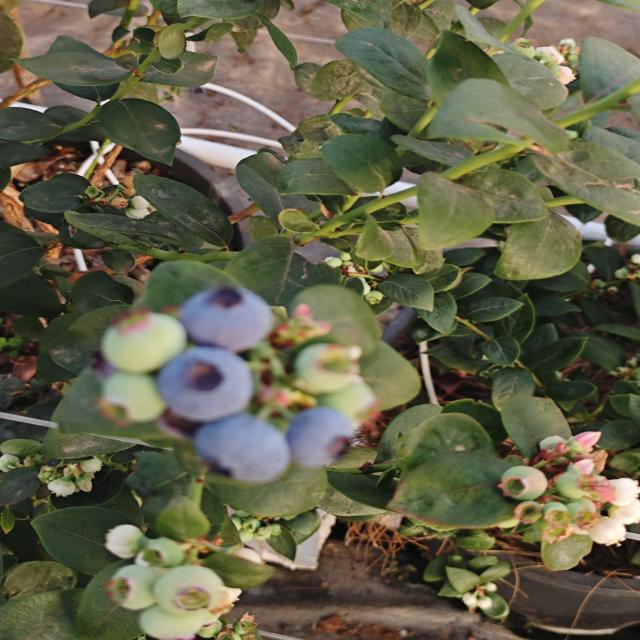ripe: (154, 345, 257, 424), (185, 422, 298, 484), (182, 287, 280, 344), (289, 412, 356, 464)
